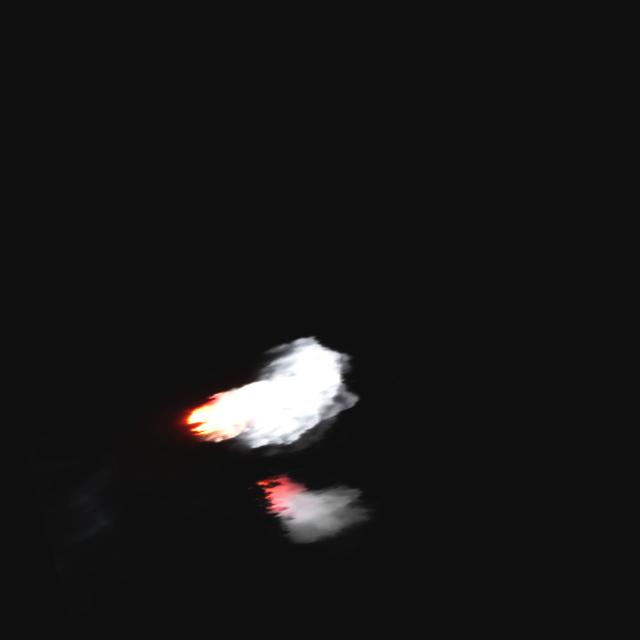fire: (180, 396, 234, 446), (257, 472, 301, 517)
smoke: (200, 321, 380, 466), (278, 472, 376, 548)
